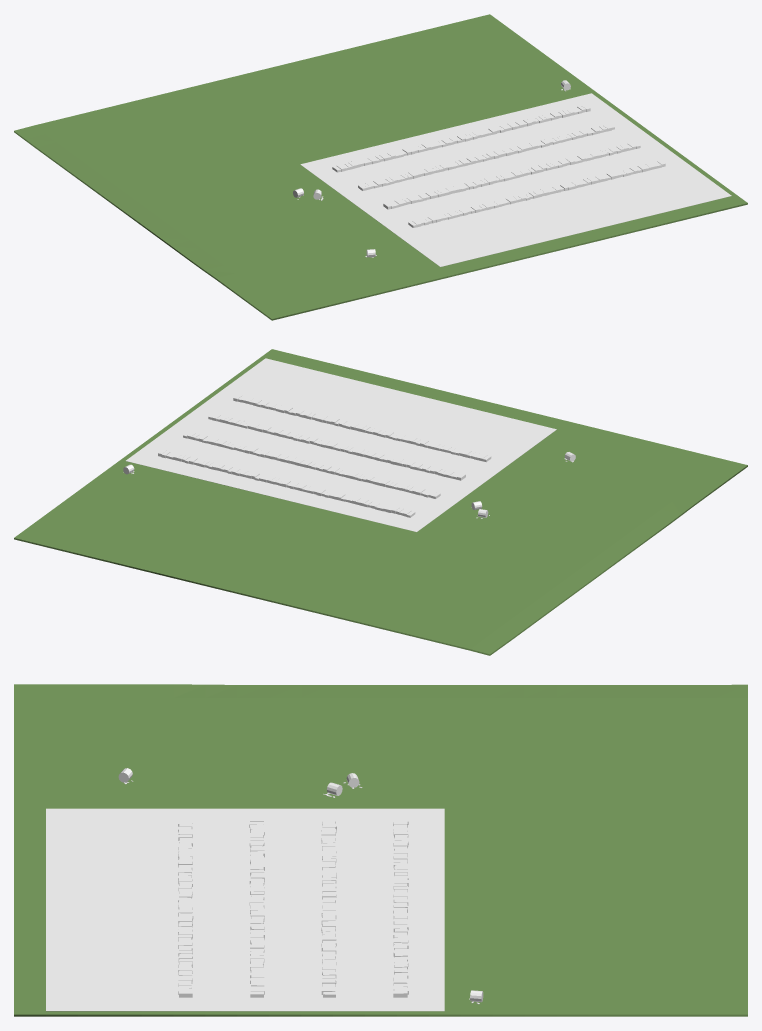
Rendered from outdoor_30.glb.
The picture shows the model from 3 angles, top to bottom: view 1: azimuth 30°, elevation 25°; view 2: azimuth 150°, elevation 25°; view 3: azimuth 270°, elevation 25°; orthographic projection. The views are drawn at different scales.
Parts seen in each view (by area): view 1: gas_station_town; view 2: gas_station_town; view 3: gas_station_town.
Part boxes in pixels (<box>): gas_station_town: <box>14,14,747,320</box>; gas_station_town: <box>14,349,747,655</box>; gas_station_town: <box>14,684,747,1016</box>.
Size of the model in its own units: 98 by 1.81 by 92.
2 materials, 1 textured.
